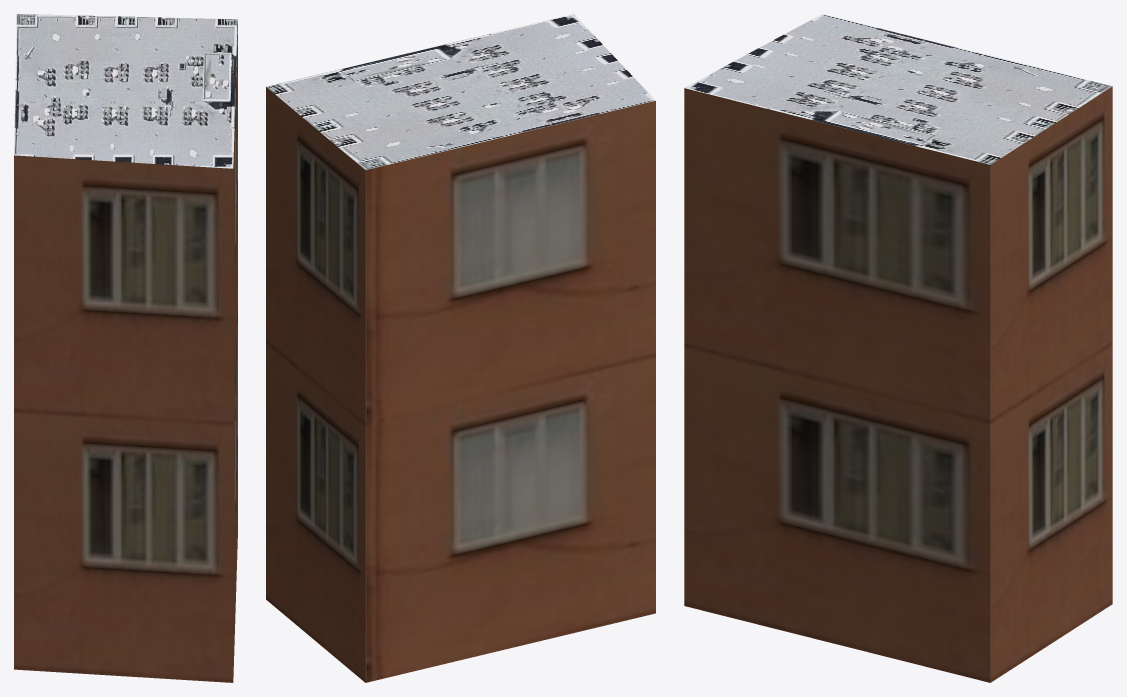
The model's file is ResTex__248.fbx.
3 views of the same model, side by side, from view 1: azimuth 30°, elevation 25°; view 2: azimuth 150°, elevation 25°; view 3: azimuth 270°, elevation 25° (orthographic).
Visible parts, largest first — view 1: CityEngineMaterial_20_m, CityEngineMaterial_4_m; view 2: CityEngineMaterial_20_m, CityEngineMaterial_4_m; view 3: CityEngineMaterial_20_m, CityEngineMaterial_4_m.
Part boxes in pixels (<box>): CityEngineMaterial_20_m: <box>14,24,237,682</box>; CityEngineMaterial_4_m: <box>14,14,237,168</box>; CityEngineMaterial_20_m: <box>266,87,655,682</box>; CityEngineMaterial_4_m: <box>266,14,655,170</box>; CityEngineMaterial_20_m: <box>684,86,1112,682</box>; CityEngineMaterial_4_m: <box>684,14,1112,164</box>.
Size of the model in its own units: 3.75 by 6 by 4.5.
2 materials, 2 textured.
